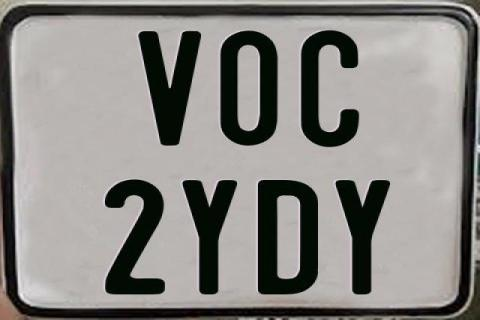0: (218, 29, 278, 149), (104, 177, 166, 293)
C: (299, 29, 358, 145)
D: (258, 179, 321, 296)
V: (137, 30, 205, 150)
Y: (181, 180, 239, 298), (333, 180, 390, 295)
